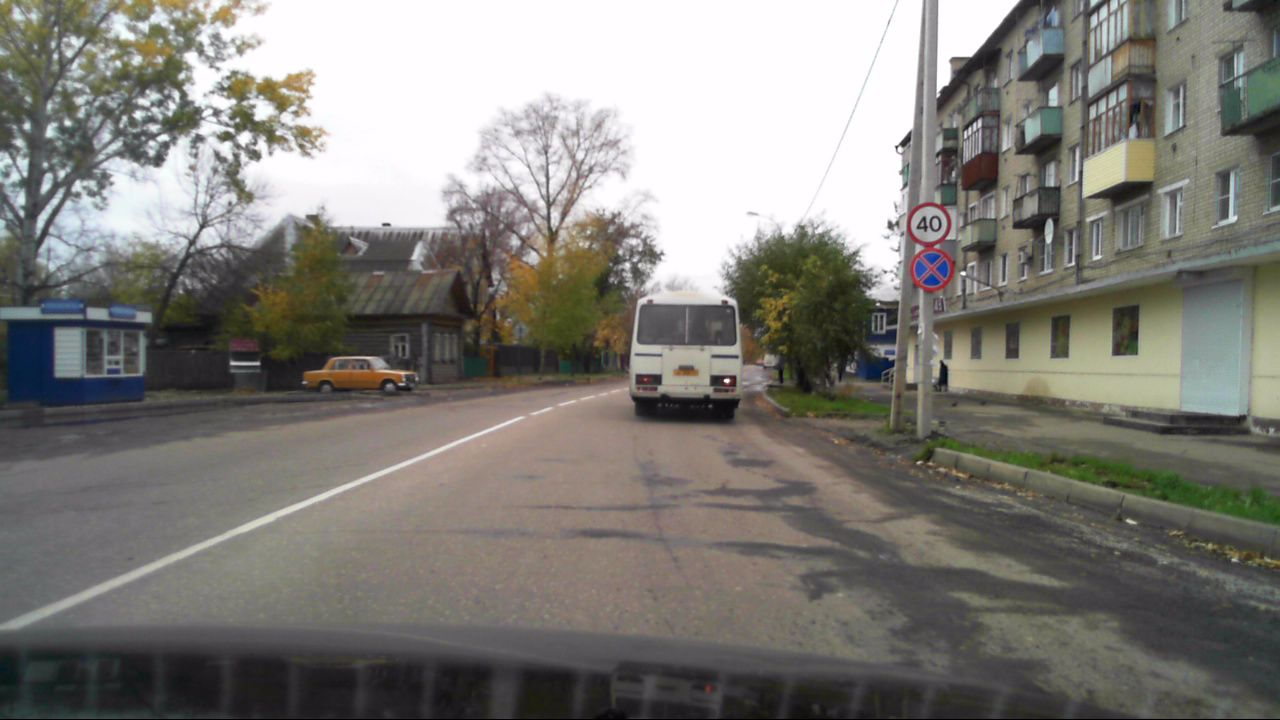No Parking: (909, 247, 955, 293)
speed_warning_40: (905, 201, 952, 247)
